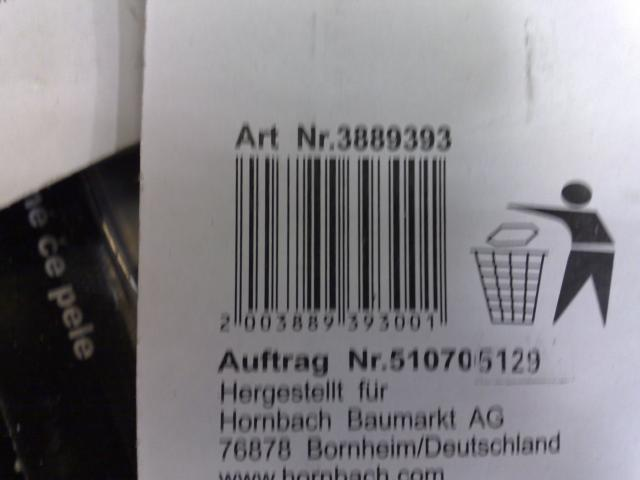Barcode: (206, 152, 470, 344)
